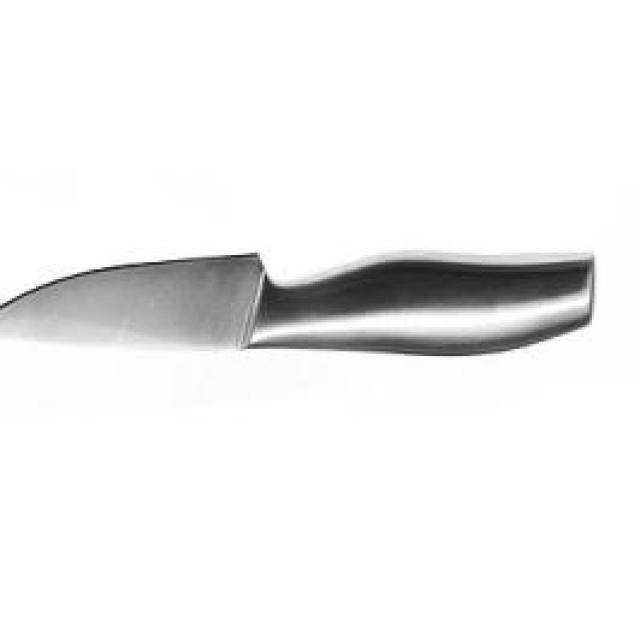knife: (0, 253, 595, 359)
